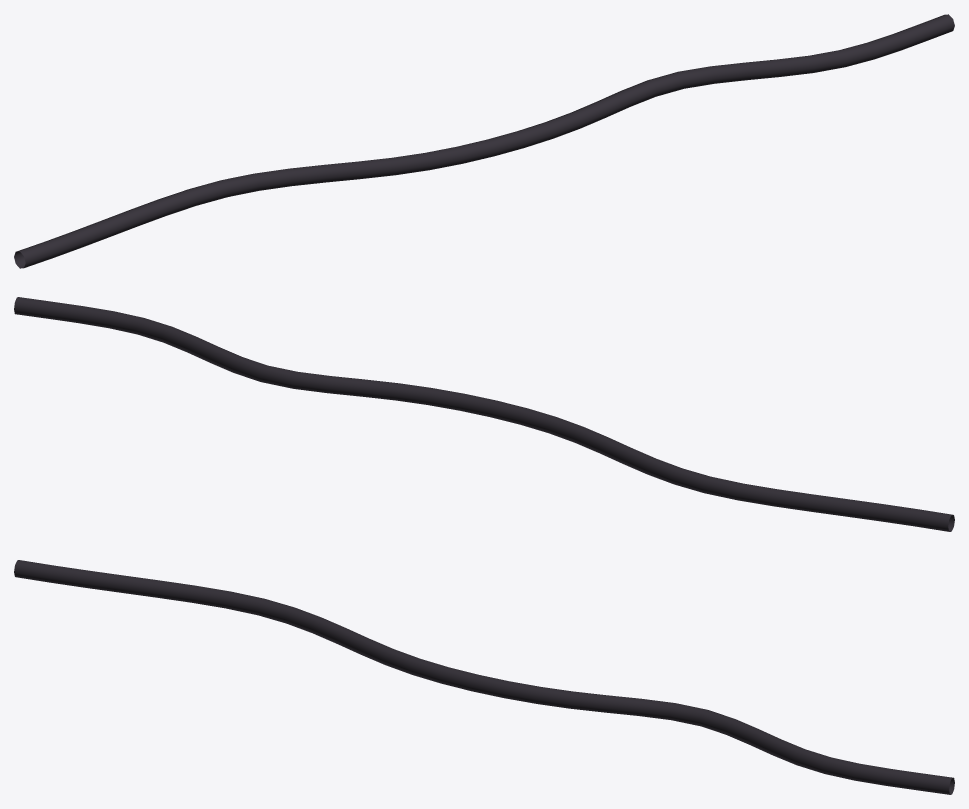
The model's file is floor cable.fbx.
The picture shows the model from 3 angles, top to bottom: view 1: azimuth 30°, elevation 25°; view 2: azimuth 150°, elevation 25°; view 3: azimuth 330°, elevation 25°; orthographic projection.
Visible parts, largest first — view 1: Cable_ground; view 2: Cable_ground; view 3: Cable_ground.
Boxes of the visible parts, x1,y1,x2,y2 form: Cable_ground: (14, 14, 954, 268); Cable_ground: (14, 297, 954, 531); Cable_ground: (14, 560, 954, 794).
Bounding box in the file's own units: 53.47 × 0.9244 × 3.36.
1 material, 1 textured.
